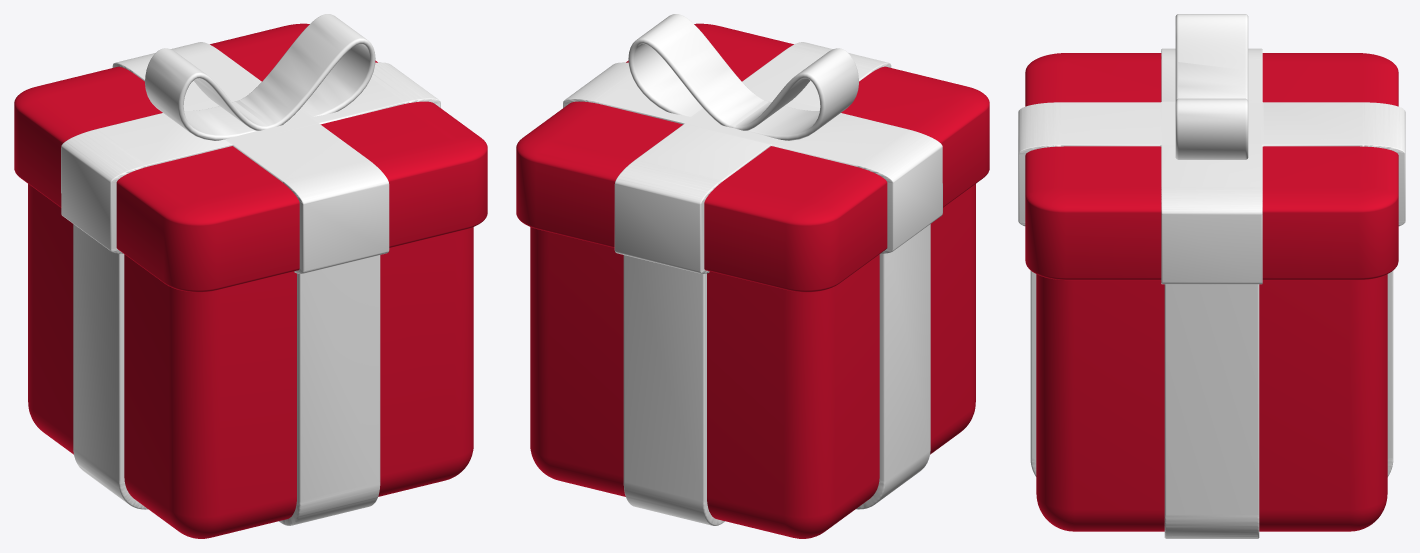
Rendered from gift.glb.
The picture shows the model from 3 angles, left to right: view 1: azimuth 30°, elevation 25°; view 2: azimuth 150°, elevation 25°; view 3: azimuth 270°, elevation 25°; orthographic projection.
Parts seen in each view (by area): view 1: Cube, Cube.002; view 2: Cube, Cube.002; view 3: Cube, Cube.002.
Part boxes in pixels (box(x1,y1,x2,y2)): Cube: box(14, 23, 487, 538); Cube.002: box(61, 14, 440, 525); Cube: box(516, 23, 989, 538); Cube.002: box(563, 14, 942, 525); Cube: box(1025, 53, 1398, 531); Cube.002: box(1018, 14, 1405, 538).
Bounding box in the file's own units: 0.7597 × 0.9197 × 0.7597.
